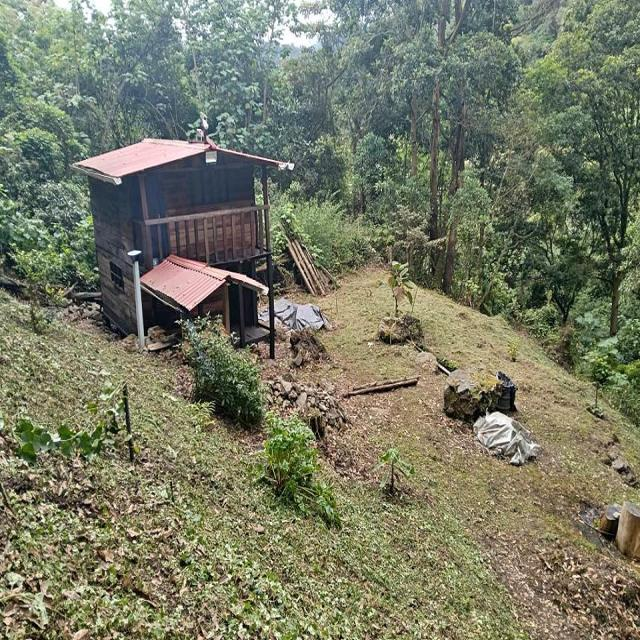Fachada: (74, 139, 293, 345)
